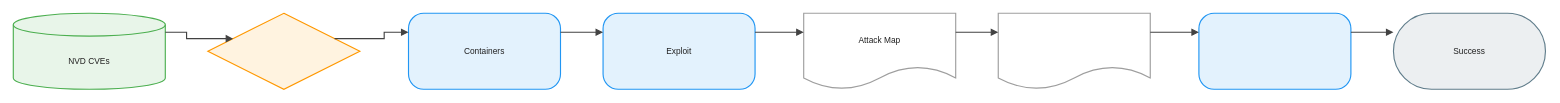
Image size: 1560x103. Some labels were removed from this diagram. Each missing label, with the centre of its shape:
"CVE Screen" belongs at [283,51].
"Eval Server" belongs at [1274,51].
"Task Spec" belongs at [1073,51].
